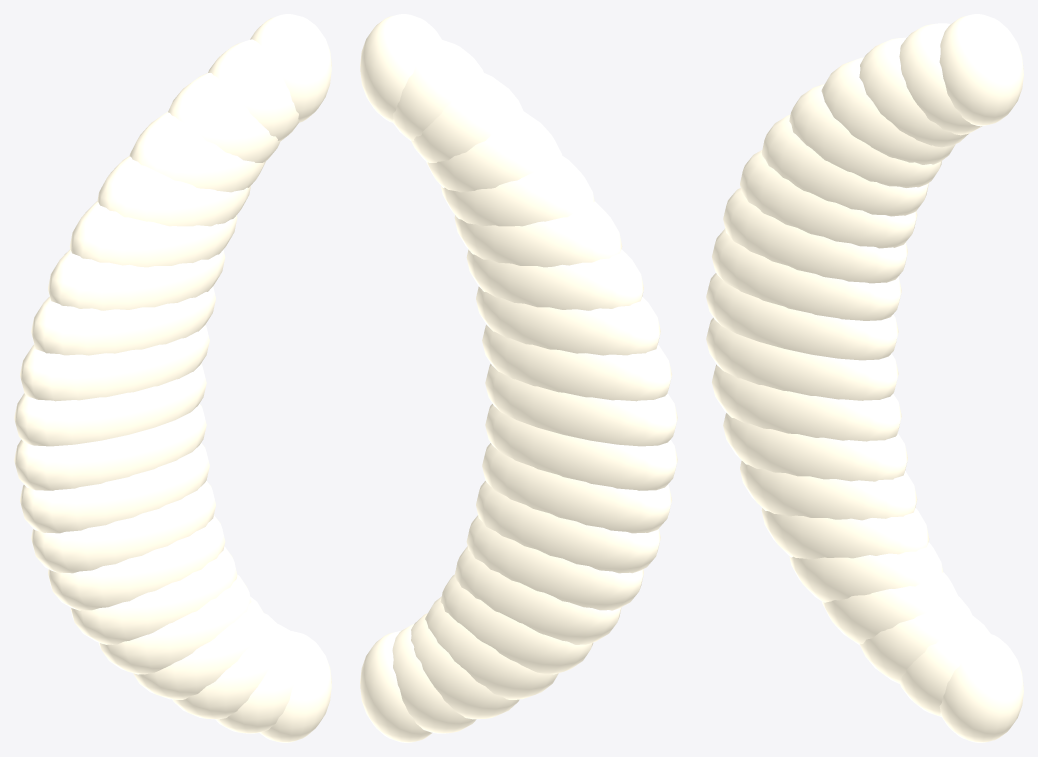
Rendered from st_dream_moon.glb.
3 views of the same model, side by side, from view 1: azimuth 30°, elevation 25°; view 2: azimuth 150°, elevation 25°; view 3: azimuth 330°, elevation 25° (orthographic).
Visible parts, largest first — view 1: Crescent_Moon; view 2: Crescent_Moon; view 3: Crescent_Moon.
Part boxes in pixels (x1,y1,x2,y2): Crescent_Moon: (14,14,331,742); Crescent_Moon: (360,14,677,742); Crescent_Moon: (706,14,1023,742).
Size of the model in its own units: 0.6737 by 1.49 by 0.15.
